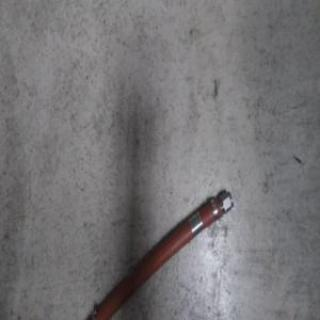Hosetrack_idkeyframe: (76, 185, 234, 319)
